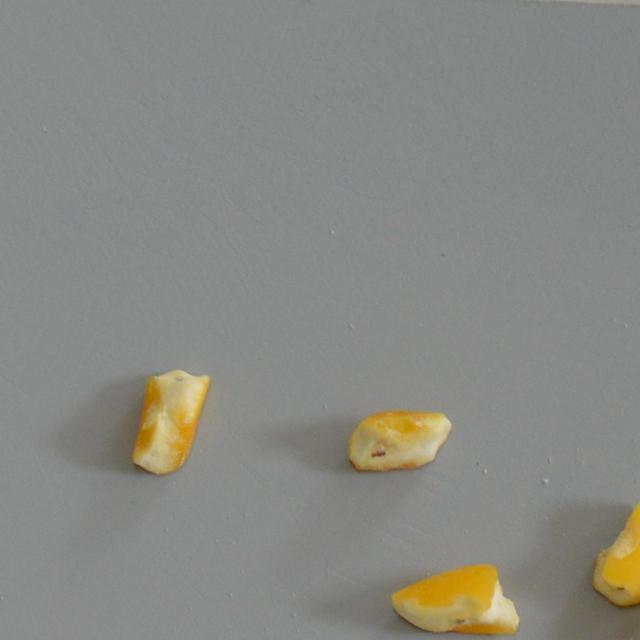dañado: (343, 408, 451, 474)
punto_negro: (387, 560, 524, 640), (130, 366, 212, 476), (586, 492, 640, 608)
